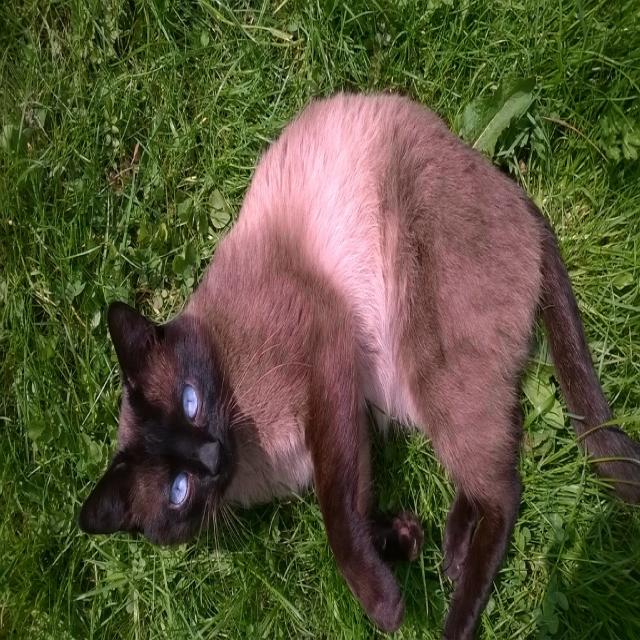Cat: (76, 85, 639, 638)
